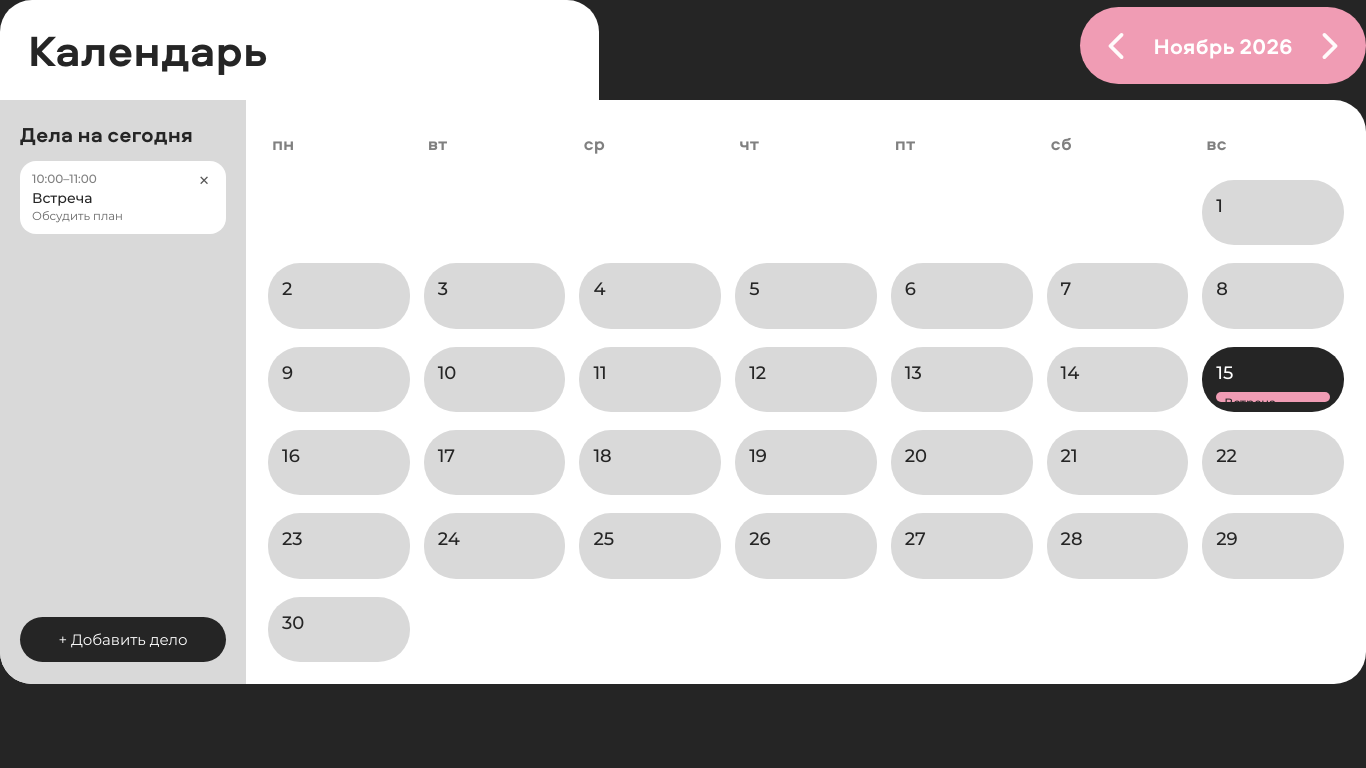
Scenario: CalendarPage › клик по делу открывает карточку; редактирование сохраняется через updateEvent
Click the button with aria-label "Открыть дело «Встреча»".
click(123, 198)  # box [20, 161, 226, 234]
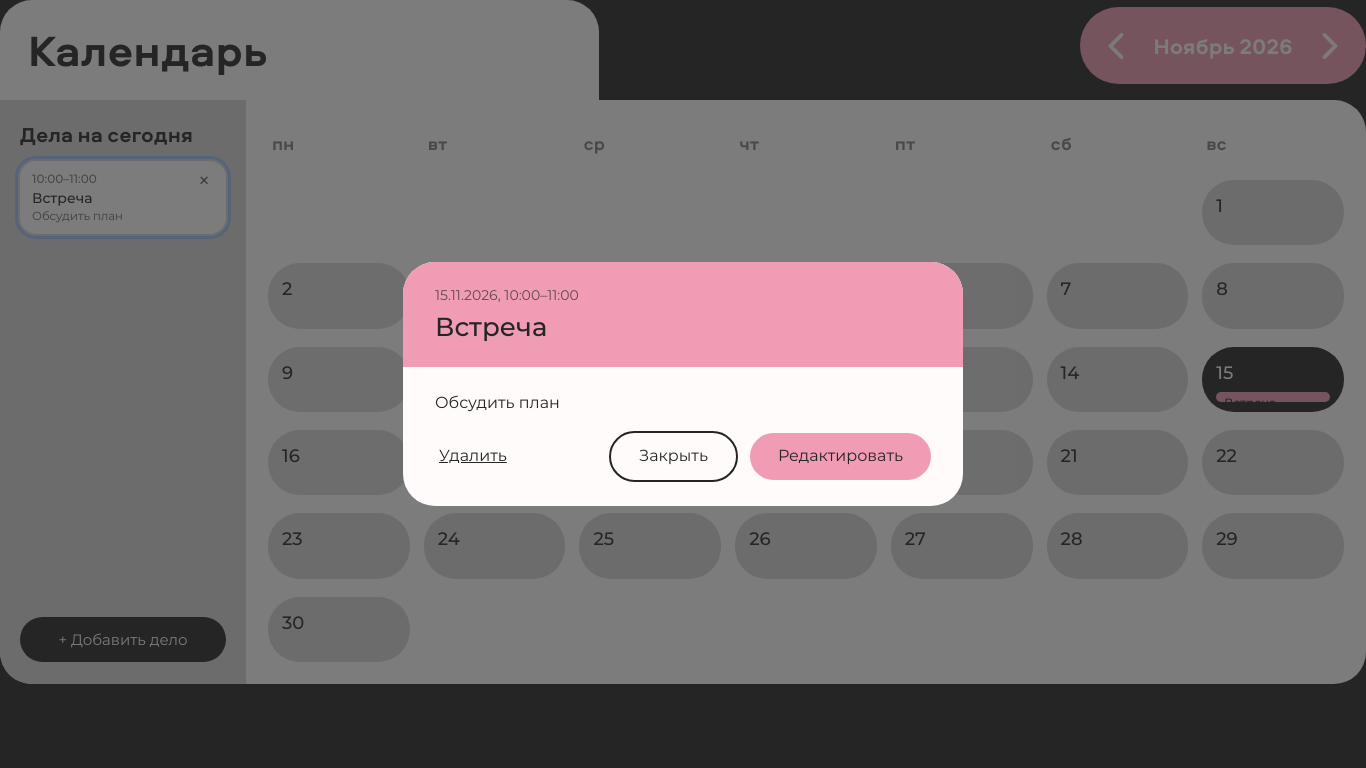
Check: the dialog shows "Обсудить план", box [435, 393, 560, 412]
Check: the dialog shows "15.11.2026", box [435, 286, 579, 304]
Click the button "Редактировать".
click(840, 456)  # box [750, 433, 931, 480]
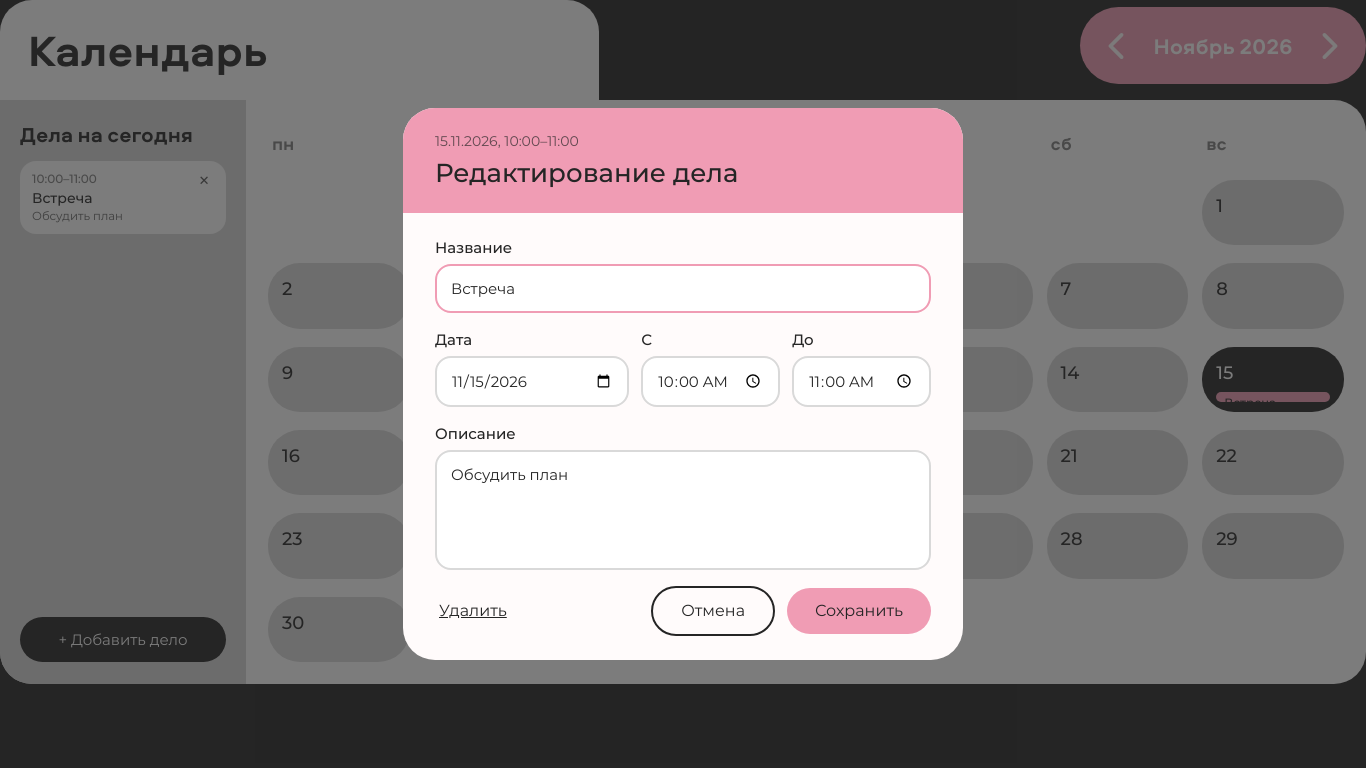
Replace the text in the field named "Название дела" with "Созвон" at (683, 288), box [435, 264, 931, 313]
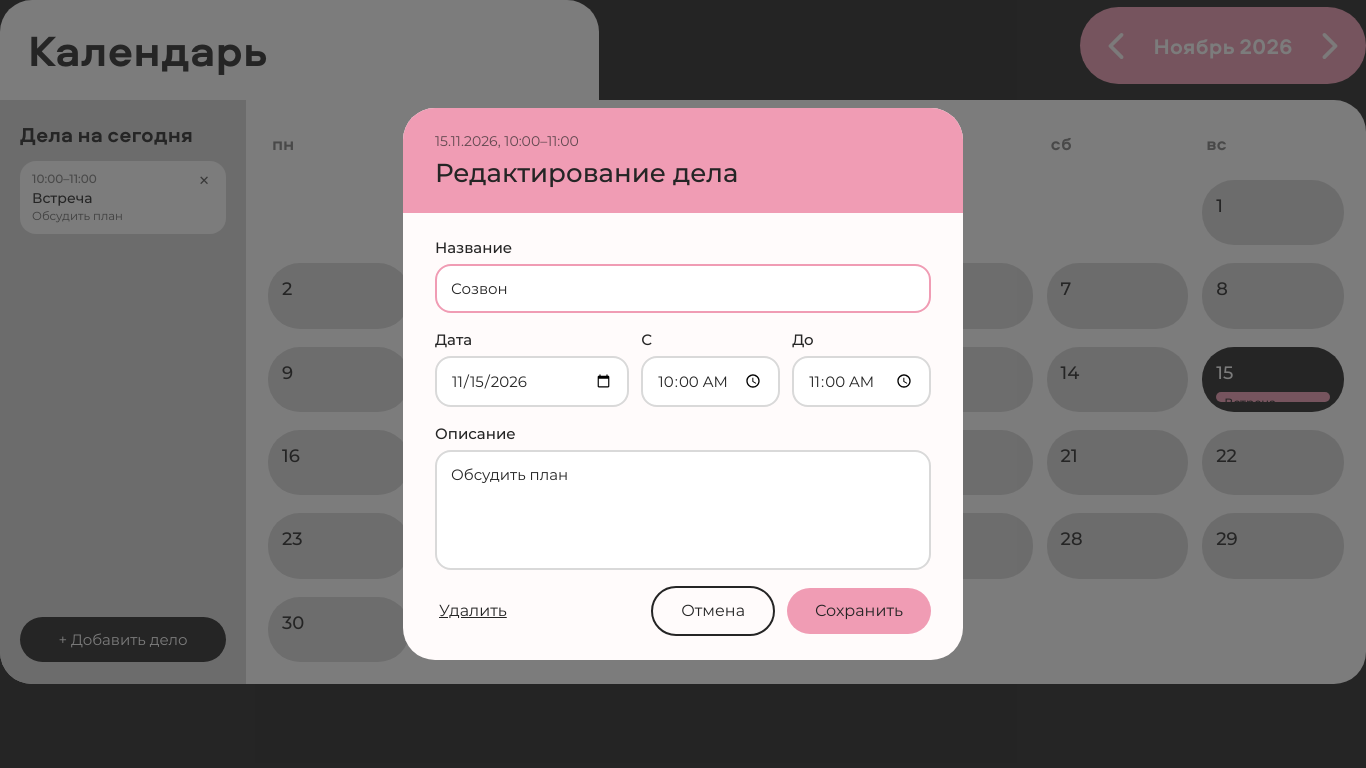
Click the button "Сохранить".
click(859, 611)  # box [787, 588, 931, 634]
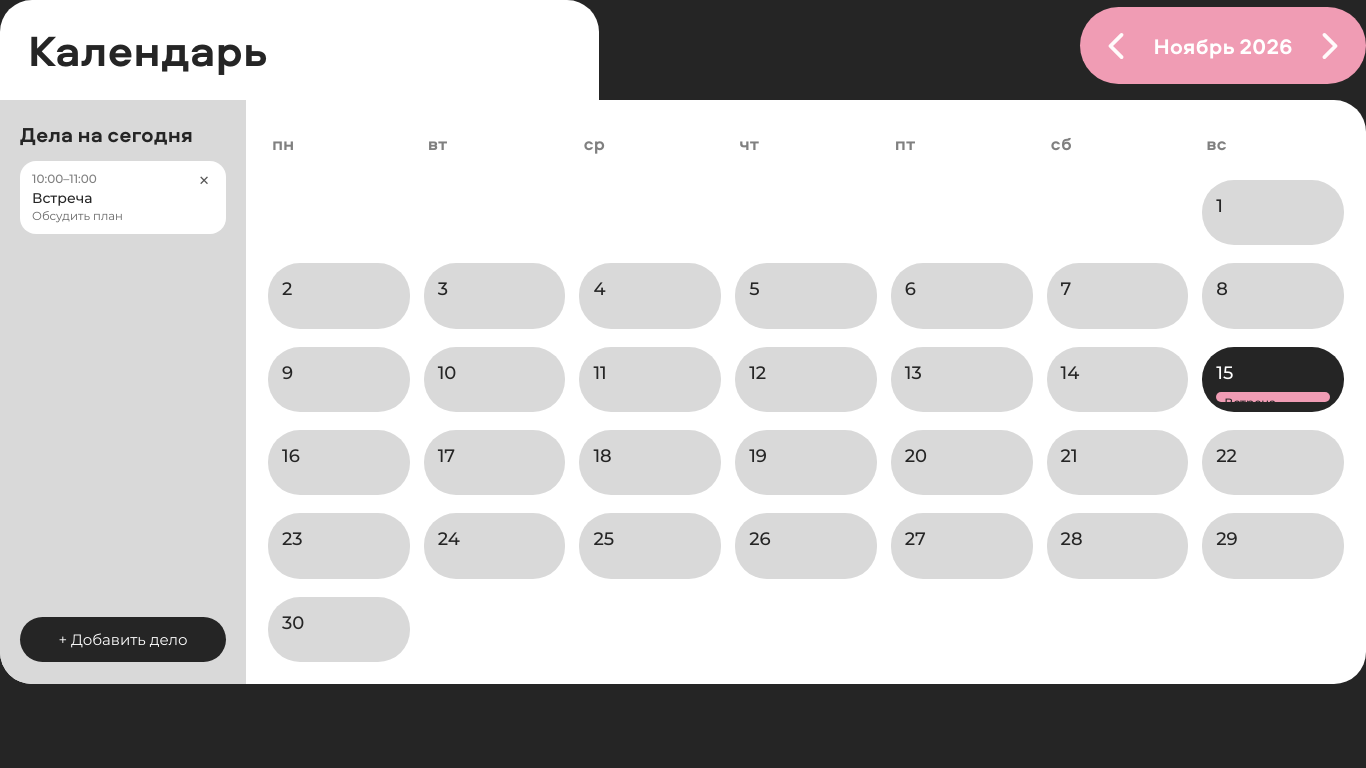
Check: the dialog is gone
